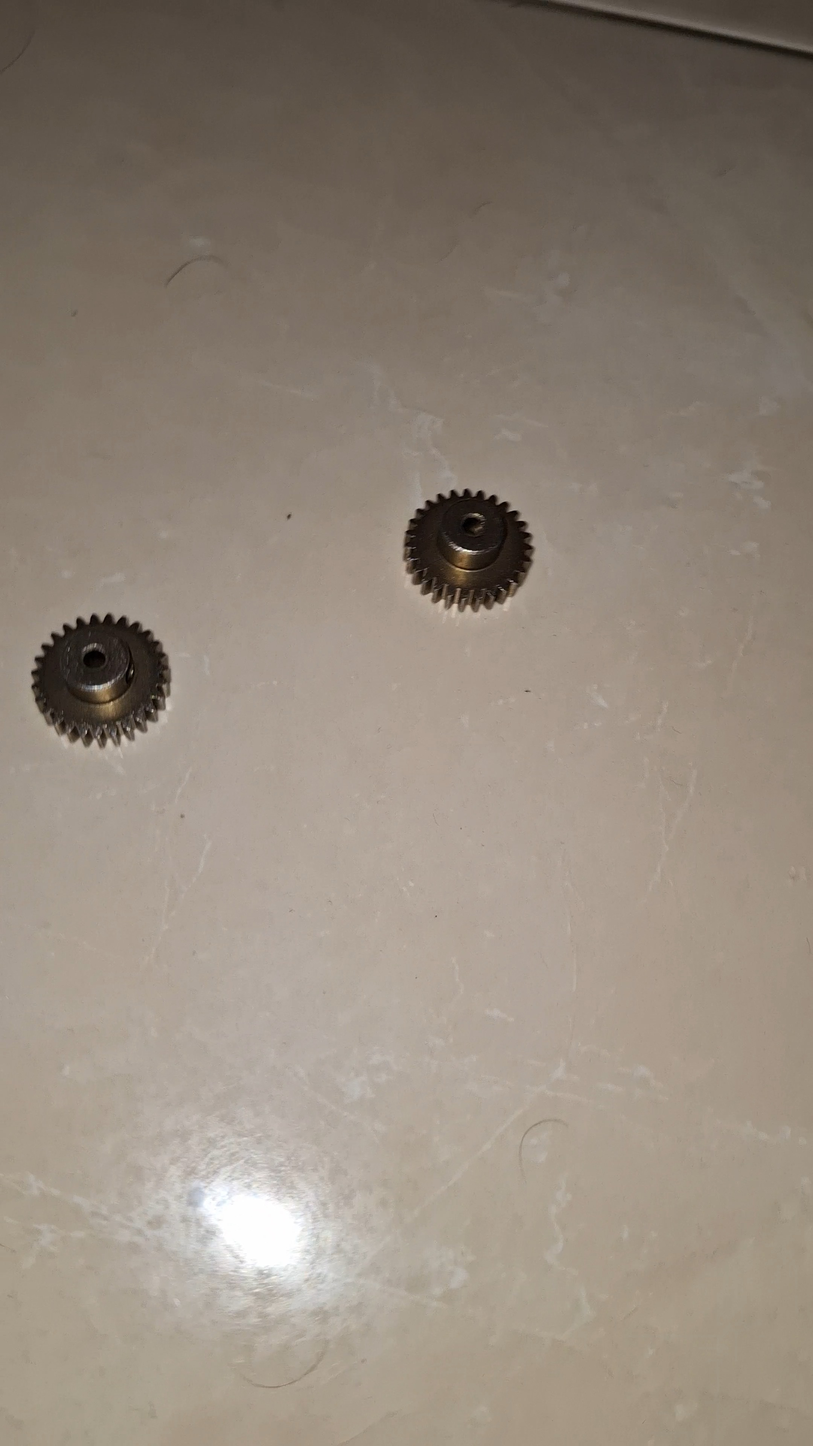spur gear: (32, 614, 169, 745), (405, 489, 533, 610)
